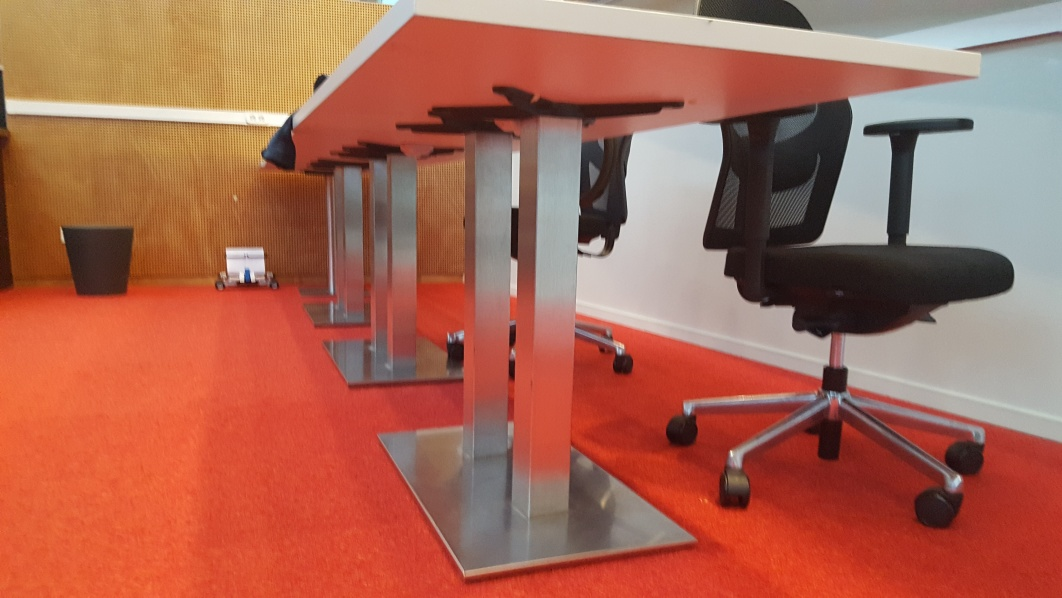car: (209, 246, 283, 294)
